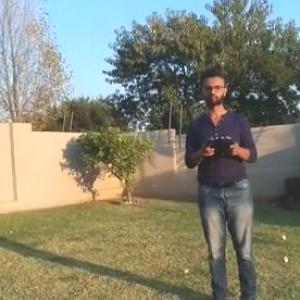follow: (179, 64, 272, 299)
